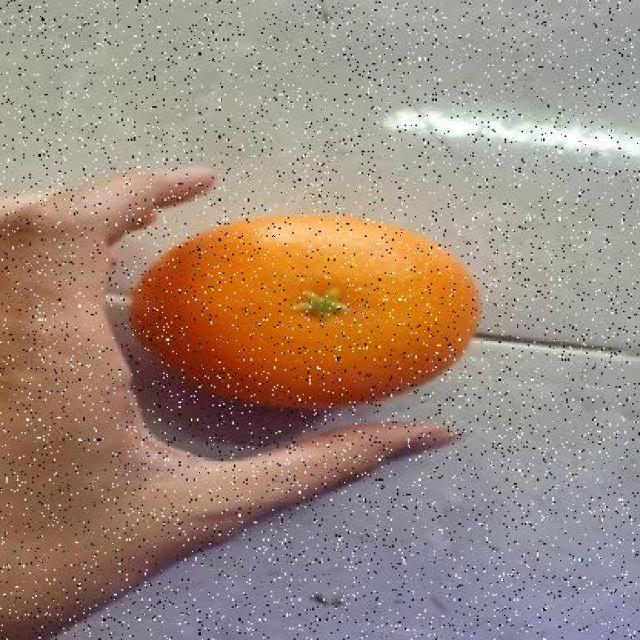Orange: (126, 211, 482, 411)
